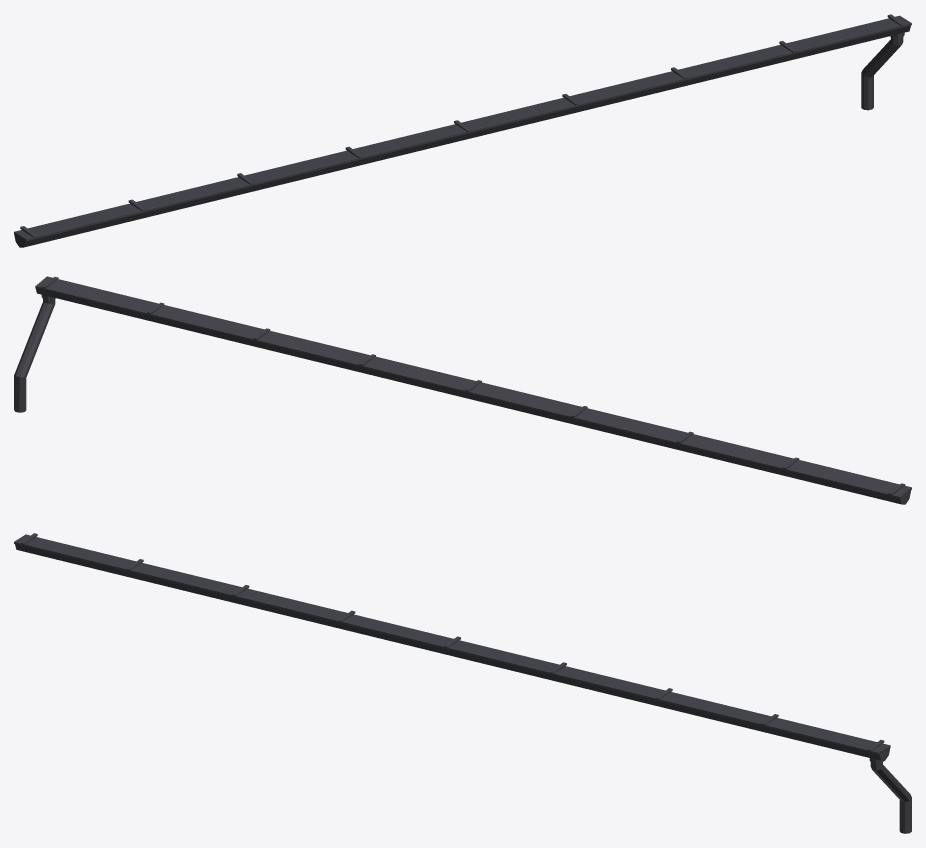
File: SM_Fixture_GutterShedFront_455_01.gltf
The picture shows the model from 3 angles, top to bottom: view 1: azimuth 30°, elevation 25°; view 2: azimuth 150°, elevation 25°; view 3: azimuth 330°, elevation 25°; orthographic projection. The views are drawn at different scales.
Parts seen in each view (by area): view 1: SM_Fixture_GutterShedFront_455_01; view 2: SM_Fixture_GutterShedFront_455_01; view 3: SM_Fixture_GutterShedFront_455_01.
Part boxes in pixels (left/top/right/bottom): SM_Fixture_GutterShedFront_455_01: left=14, top=14, right=911, bottom=247; SM_Fixture_GutterShedFront_455_01: left=14, top=276, right=911, bottom=504; SM_Fixture_GutterShedFront_455_01: left=14, top=533, right=911, bottom=833.
Bounding box in the file's own units: 4.77 × 0.565 × 0.3677.
Materials: 1 (1 with a texture image).
